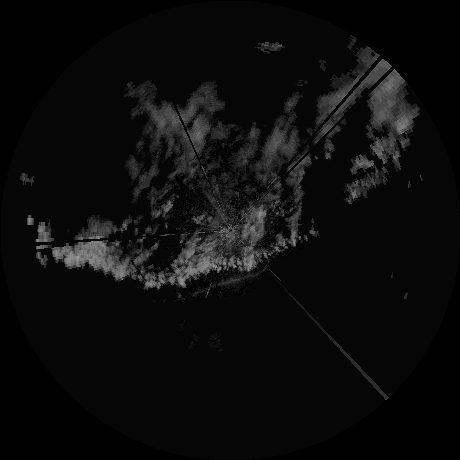frontgust: (183, 266, 268, 300)
